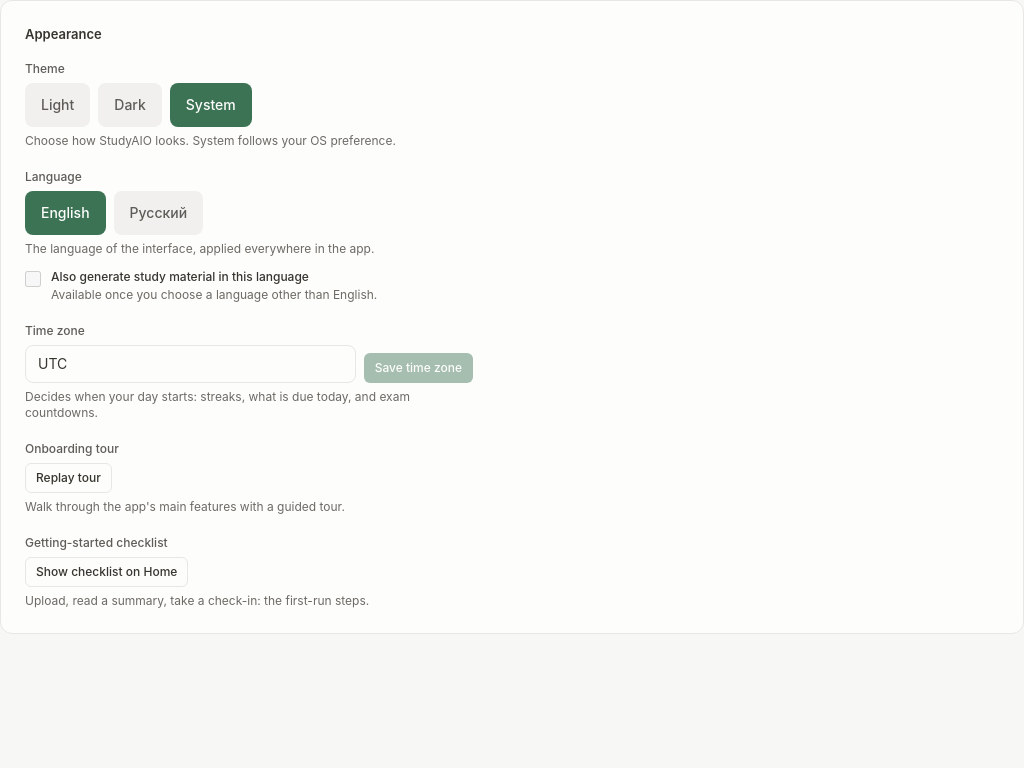
Scenario: getting-started checklist › pins the checklist on the server and confirms once that succeeded
The image size is (1024, 768).
What coordinates should you click on to do the following:
click the button "Show checklist on Home"
I would click on:
 (107, 572)
Its box is 25,556 -> 188,586.
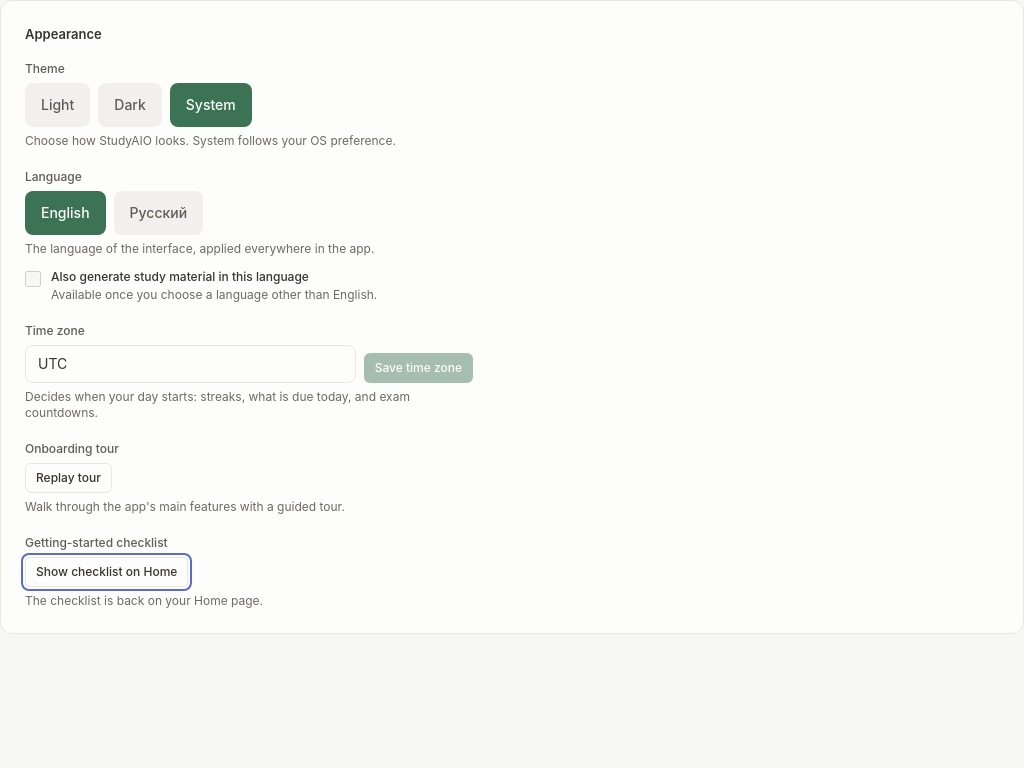
Expected: the message reads "The checklist is back on your Home page.", 25,592 -> 263,608
